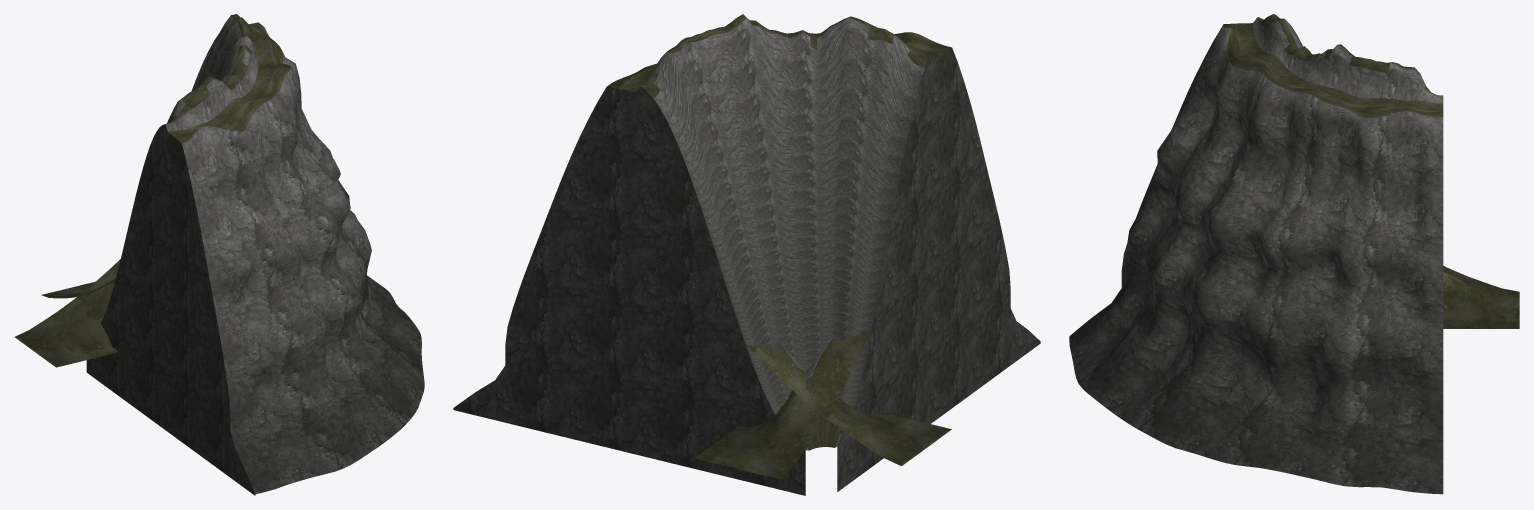
The model's file is seacliff_outer_h8_v5_summer.glb.
3 renders of one model, left to right at view 1: azimuth 30°, elevation 25°; view 2: azimuth 150°, elevation 25°; view 3: azimuth 270°, elevation 25°, orthographic. The views are drawn at different scales.
Parts seen in each view (by area): view 1: seacliff_outer_h8; view 2: seacliff_outer_h8; view 3: seacliff_outer_h8.
Part boxes in pixels (bbox=[...]): seacliff_outer_h8: bbox=[15, 14, 424, 495]; seacliff_outer_h8: bbox=[453, 14, 1040, 495]; seacliff_outer_h8: bbox=[1069, 14, 1519, 494].
Size of the model in its own units: 12.29 by 10.69 by 12.29.
2 materials, 2 textured.
